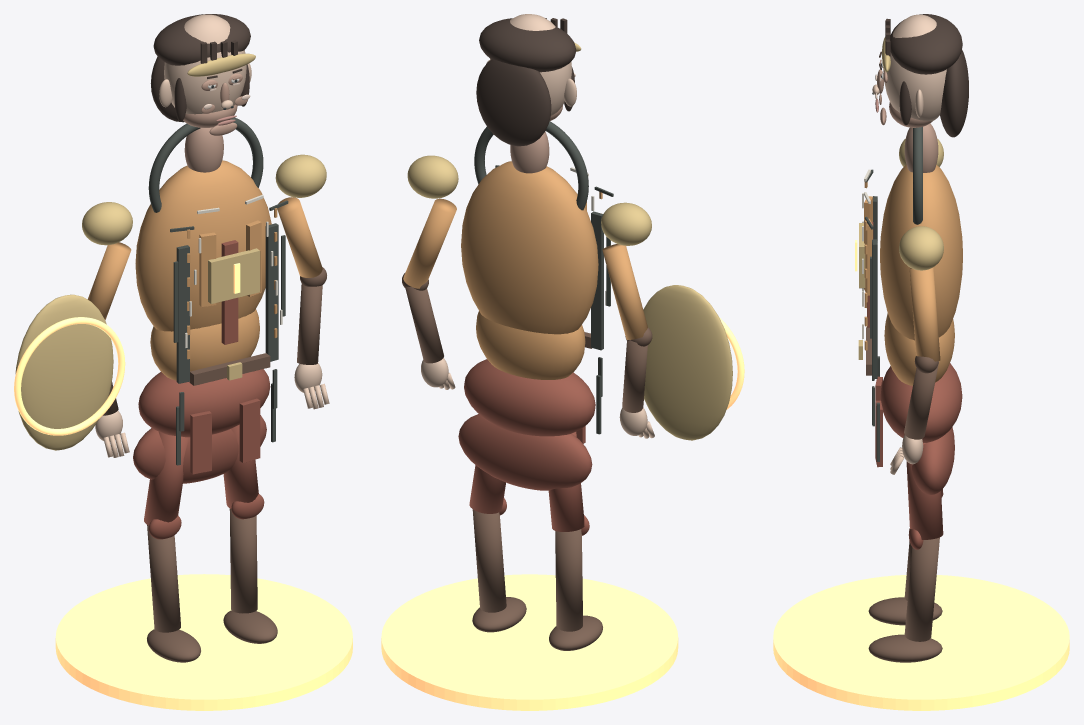
File: ember-guardian.glb
The picture shows the model from 3 angles, left to right: view 1: azimuth 30°, elevation 25°; view 2: azimuth 150°, elevation 25°; view 3: azimuth 270°, elevation 25°; orthographic projection.
Visible parts, largest first — view 1: ember-guardian_table_scale_base, ember-guardian_ribcage, ember-guardian_round_shield, ember-guardian_pelvis, ember-guardian_abdomen, ember-guardian_head, ember-guardian_coat_tail, ember-guardian_right_shin, ember-guardian_left_shin, ember-guardian_shield_ring, ember-guardian_hair_cap, ember-guardian_left_thigh (+26 smaller); view 2: ember-guardian_table_scale_base, ember-guardian_ribcage, ember-guardian_round_shield, ember-guardian_pelvis, ember-guardian_coat_tail, ember-guardian_back_hair_mass, ember-guardian_abdomen, ember-guardian_hair_cap, ember-guardian_right_shin, ember-guardian_left_shin, ember-guardian_left_upper_arm, ember-guardian_right_upper_arm (+15 smaller); view 3: ember-guardian_table_scale_base, ember-guardian_ribcage, ember-guardian_pelvis, ember-guardian_head, ember-guardian_hair_cap, ember-guardian_right_shin, ember-guardian_right_upper_arm, ember-guardian_abdomen, ember-guardian_coat_tail, ember-guardian_back_hair_mass, ember-guardian_right_thigh, ember-guardian_right_shoulder (+7 smaller).
Part boxes in pixels (<box>): ember-guardian_table_scale_base: <box>55,574,352,710</box>; ember-guardian_ribcage: <box>135,160,271,331</box>; ember-guardian_round_shield: <box>15,294,113,450</box>; ember-guardian_pelvis: <box>138,369,270,437</box>; ember-guardian_abdomen: <box>150,309,259,380</box>; ember-guardian_head: <box>164,14,246,114</box>; ember-guardian_coat_tail: <box>133,415,266,483</box>; ember-guardian_right_shin: <box>229,508,257,613</box>; ember-guardian_left_shin: <box>147,525,180,632</box>; ember-guardian_shield_ring: <box>14,317,125,435</box>; ember-guardian_hair_cap: <box>153,14,250,65</box>; ember-guardian_left_thigh: <box>144,432,189,525</box>; ember-guardian_table_scale_base: <box>381,574,678,710</box>; ember-guardian_ribcage: <box>461,161,598,334</box>; ember-guardian_round_shield: <box>643,285,732,440</box>; ember-guardian_pelvis: <box>464,359,595,436</box>; ember-guardian_coat_tail: <box>458,414,592,490</box>; ember-guardian_back_hair_mass: <box>476,59,551,146</box>; ember-guardian_abdomen: <box>476,311,585,379</box>; ember-guardian_hair_cap: <box>479,18,576,72</box>; ember-guardian_right_shin: <box>472,509,506,612</box>; ember-guardian_left_shin: <box>555,529,582,631</box>; ember-guardian_left_upper_arm: <box>602,244,647,339</box>; ember-guardian_right_upper_arm: <box>403,198,456,288</box>; ember-guardian_table_scale_base: <box>773,575,1069,710</box>; ember-guardian_ribcage: <box>880,165,962,340</box>; ember-guardian_pelvis: <box>880,363,962,442</box>; ember-guardian_head: <box>883,14,946,121</box>; ember-guardian_hair_cap: <box>890,14,962,74</box>; ember-guardian_right_shin: <box>904,537,939,641</box>; ember-guardian_right_upper_arm: <box>909,267,940,361</box>; ember-guardian_abdomen: <box>884,313,954,385</box>; ember-guardian_coat_tail: <box>912,427,954,494</box>; ember-guardian_back_hair_mass: <box>940,50,968,137</box>; ember-guardian_right_thigh: <box>906,443,943,539</box>; ember-guardian_right_shoulder: <box>899,226,943,270</box>.
Bounding box in the file's own units: 1.08 × 1.97 × 0.84.
